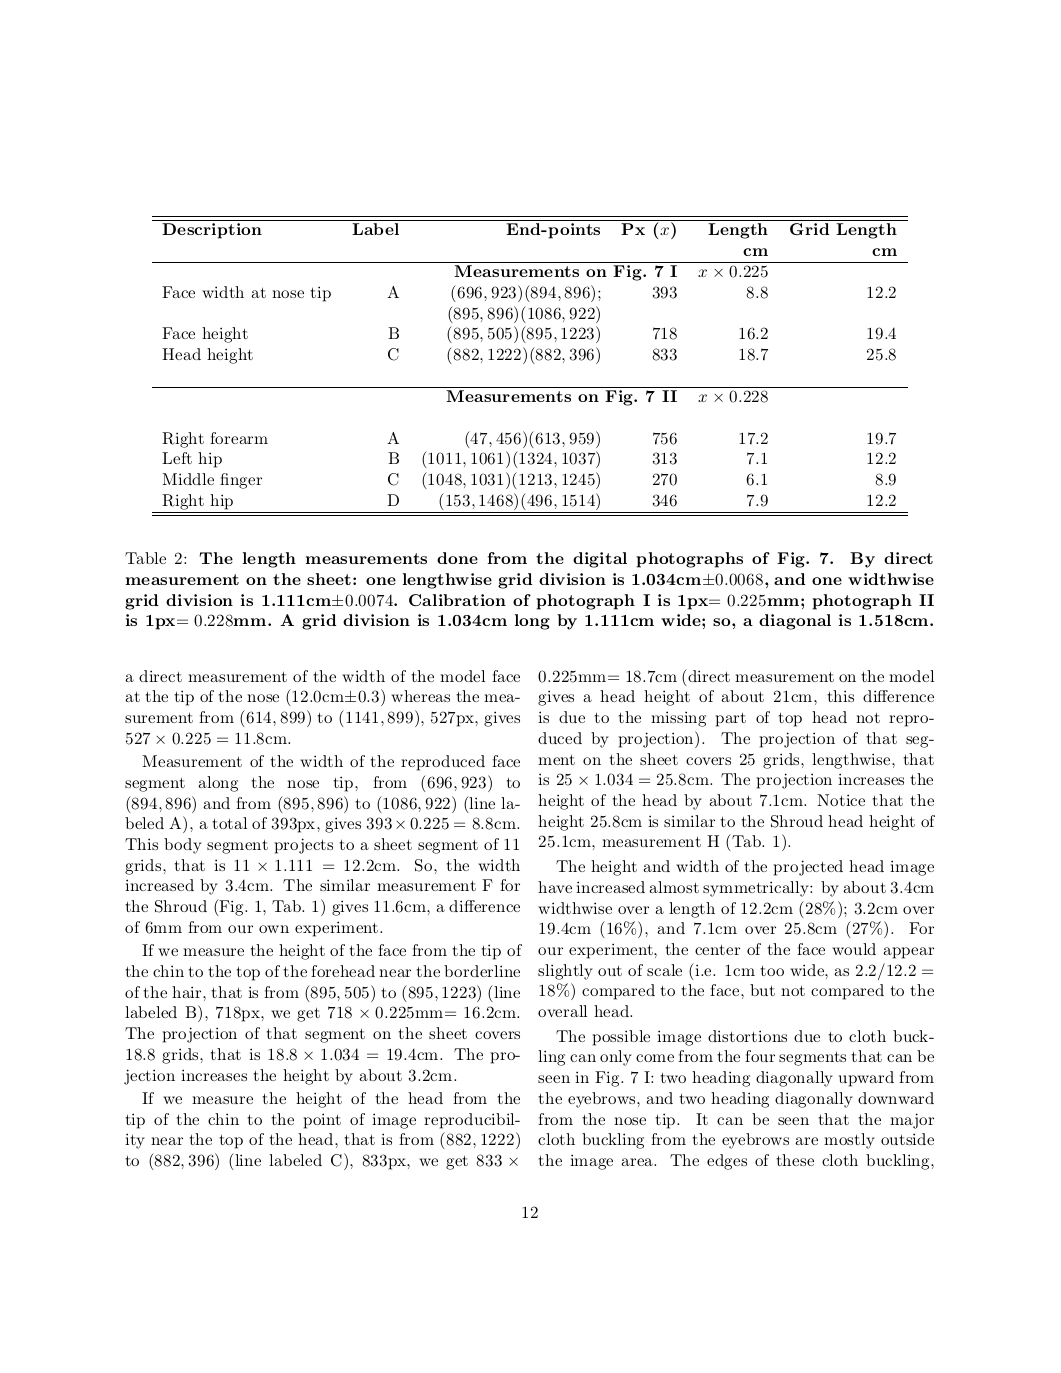Table: (152, 216, 907, 515)
